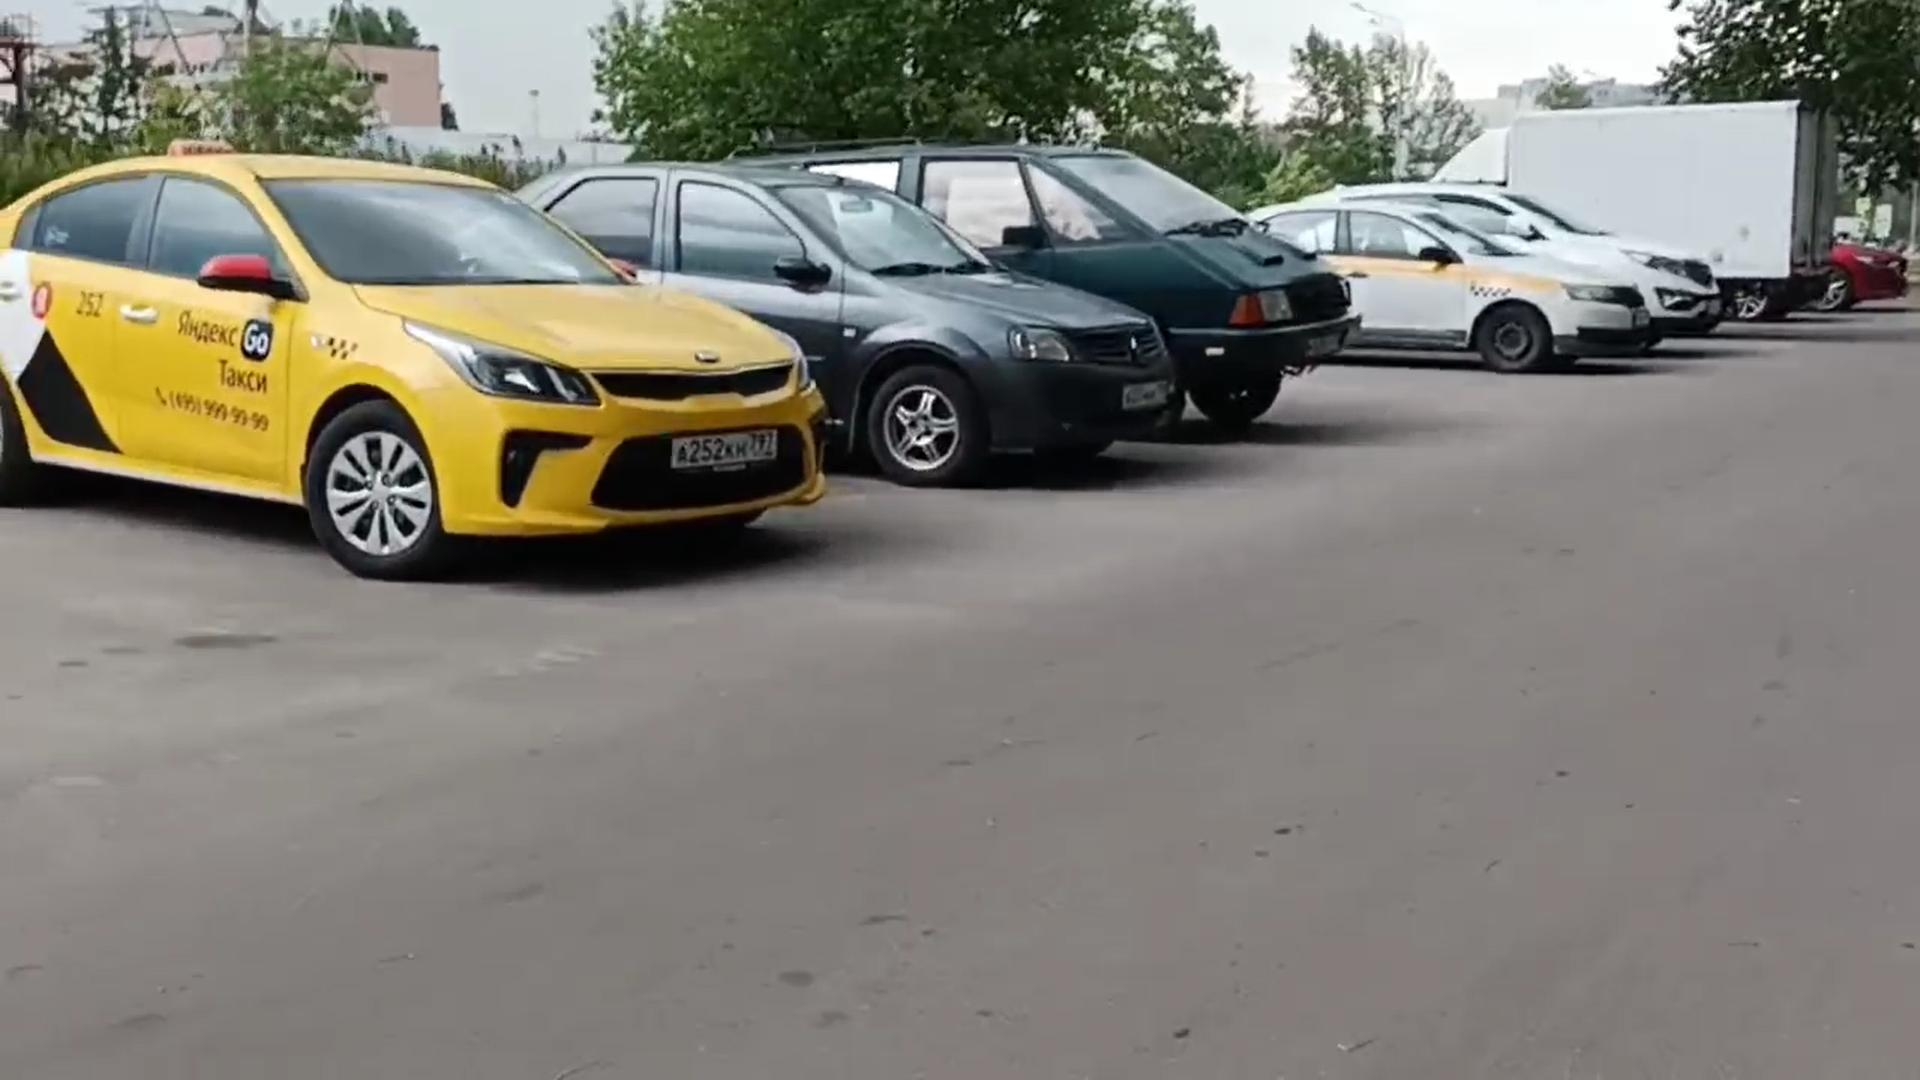plate: (676, 432, 773, 470), (1119, 389, 1155, 413)
